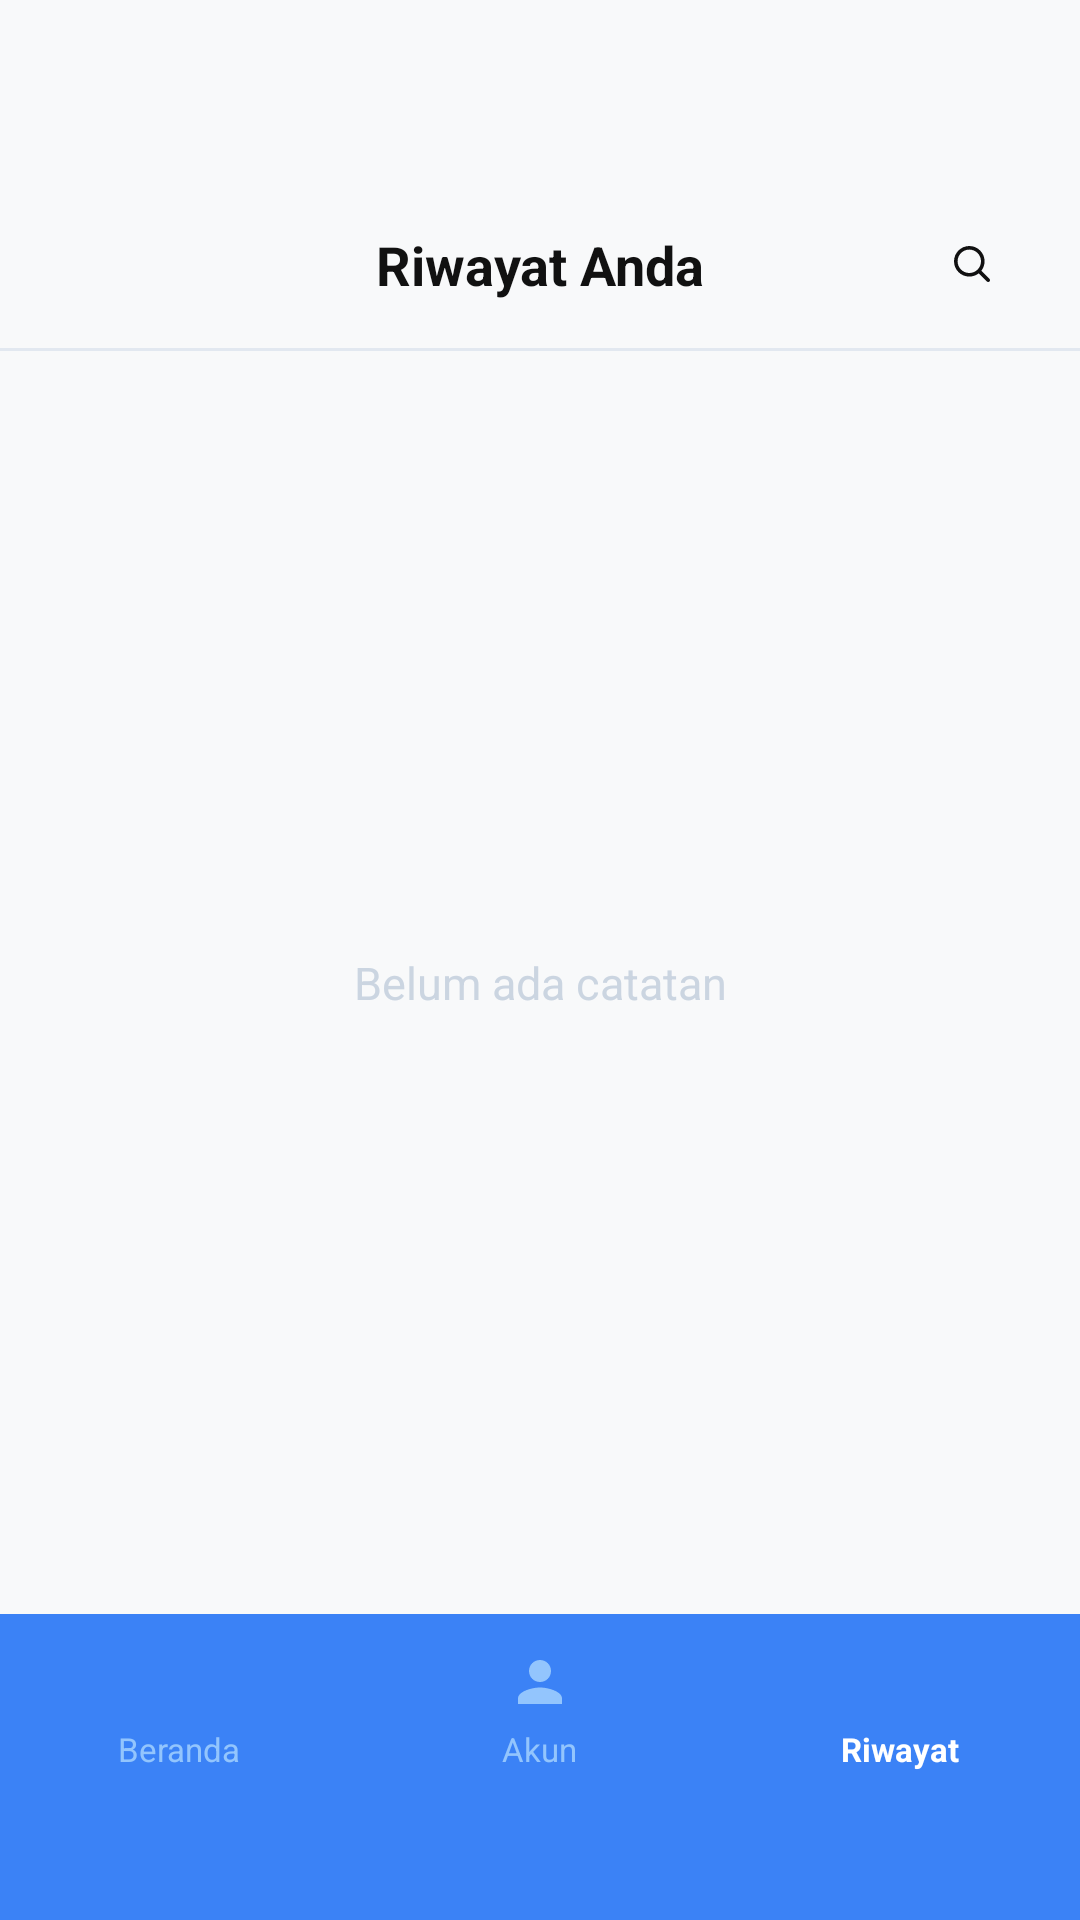

Named icons in this screenshot (1080 × 1920) and their bounding boxes, (x1, y1, x2, y2):
Cari Catatan: (954, 246, 990, 282)
